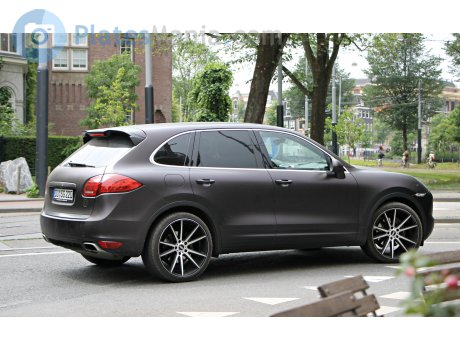License Plates: (48, 190, 74, 197)
